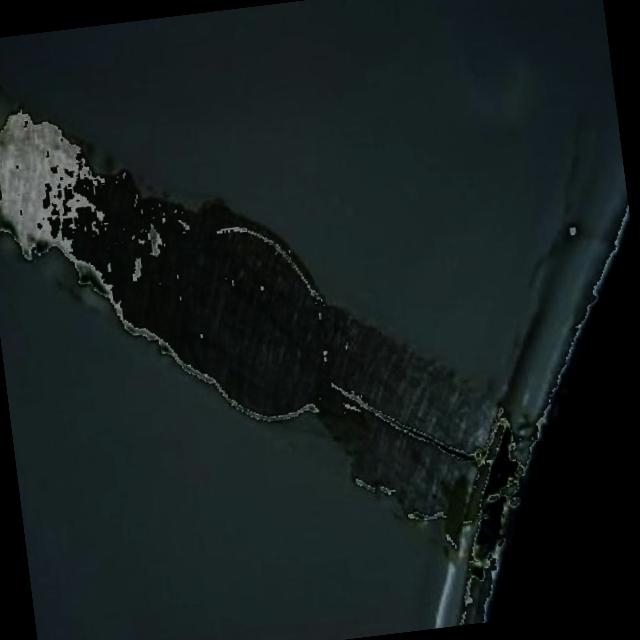crack: (338, 383, 404, 439), (408, 423, 478, 471)
